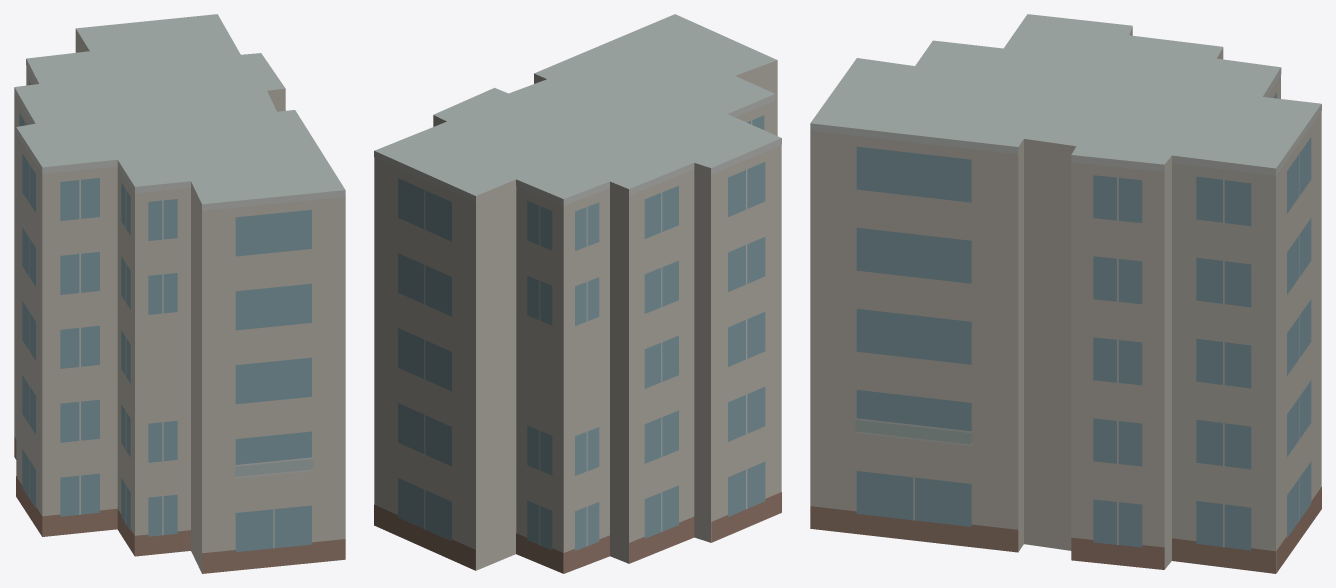
Rendered from survey-upis-32604590.glb.
The picture shows the model from 3 angles, left to right: view 1: azimuth 30°, elevation 25°; view 2: azimuth 150°, elevation 25°; view 3: azimuth 270°, elevation 25°; orthographic projection. The views are drawn at different scales.
Parts seen in each view (by area): view 1: survey-upis-32604590.tmp; view 2: survey-upis-32604590.tmp; view 3: survey-upis-32604590.tmp.
Part boxes in pixels (bbox=[...]): survey-upis-32604590.tmp: bbox=[14, 14, 345, 573]; survey-upis-32604590.tmp: bbox=[374, 14, 781, 573]; survey-upis-32604590.tmp: bbox=[810, 14, 1321, 573].
Size of the model in its own units: 11.08 by 13.55 by 15.51.
